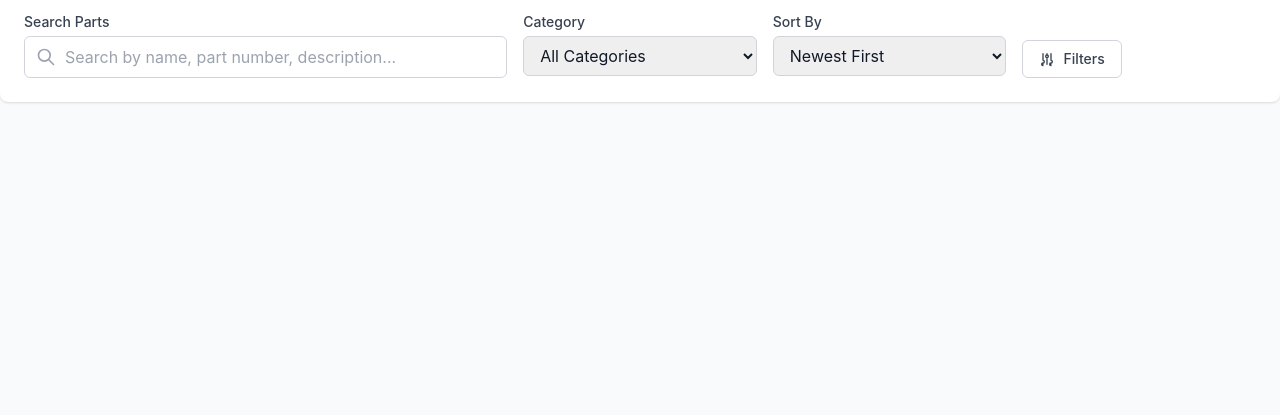
PartsFilters › Advanced Filters Toggle › hides advanced filters when toggle button is clicked again
Step 1. Click the button → (1072, 59), box [1022, 40, 1122, 78]
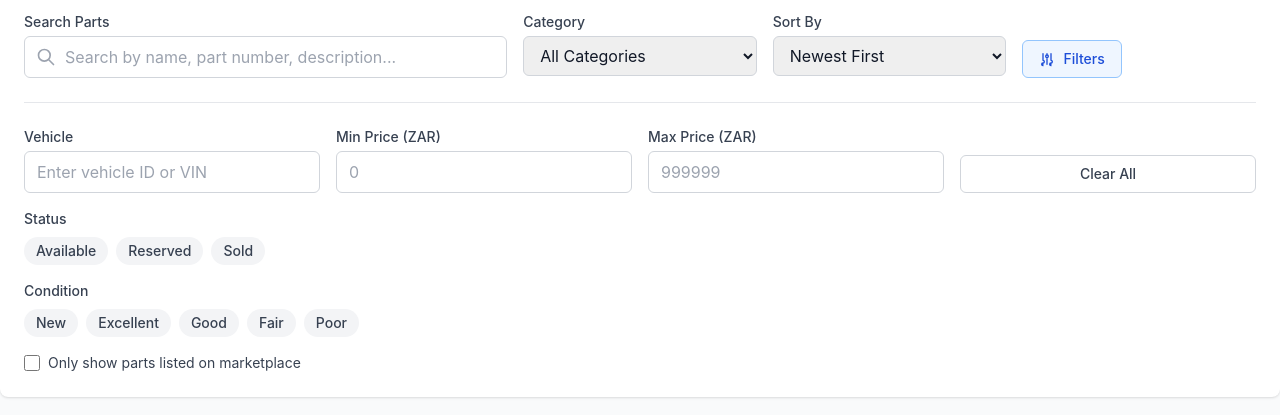
Expected: the text "Vehicle" is shown, [24, 128, 73, 145]
Step 2. Click the button "Filters" → (1072, 59), box [1022, 40, 1122, 78]
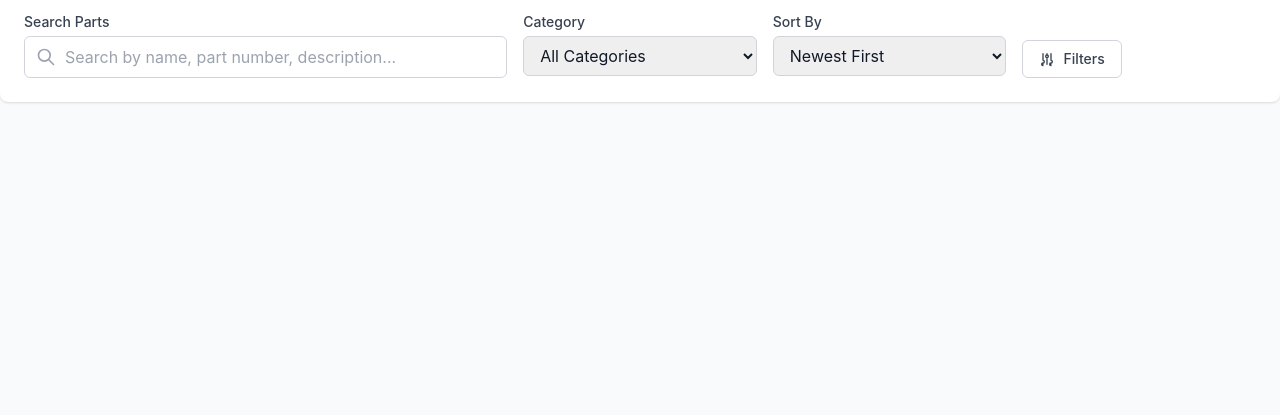
Expected: the text "Vehicle" is gone
